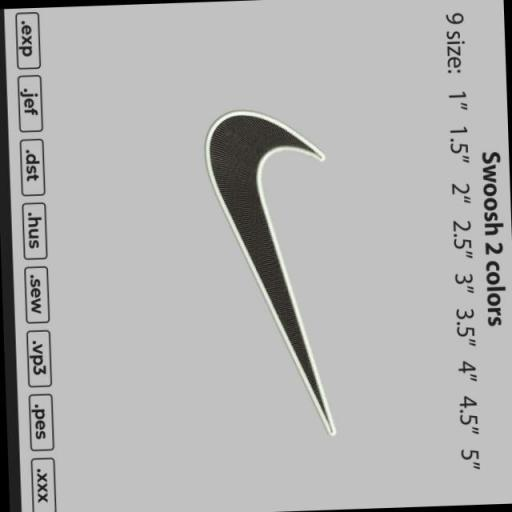Nike: (202, 106, 338, 444)
